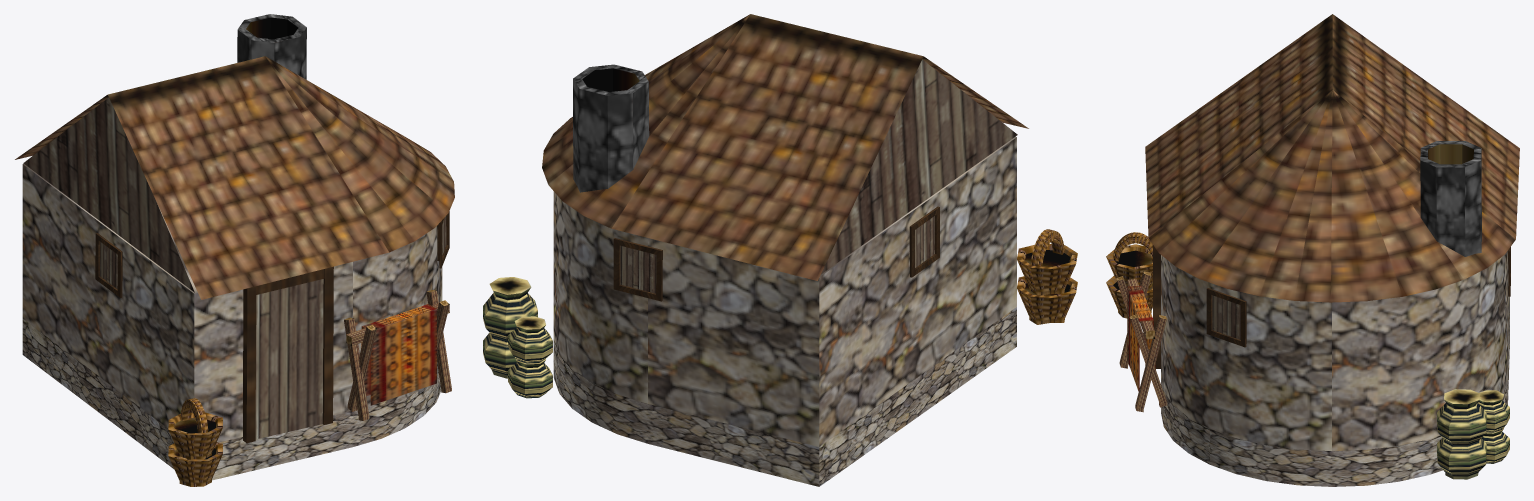
Rendered from house_2.dae.
The picture shows the model from 3 angles, left to right: view 1: azimuth 30°, elevation 25°; view 2: azimuth 150°, elevation 25°; view 3: azimuth 270°, elevation 25°; orthographic projection. The views are drawn at different scales.
Visible parts, largest first — view 1: house_2; view 2: house_2; view 3: house_2.
Boxes of the visible parts, <box> form: house_2: <box>15,14,454,486</box>; house_2: <box>483,14,1077,486</box>; house_2: <box>1106,14,1519,486</box>.
Size of the model in its own units: 11.56 by 11.34 by 9.75.
